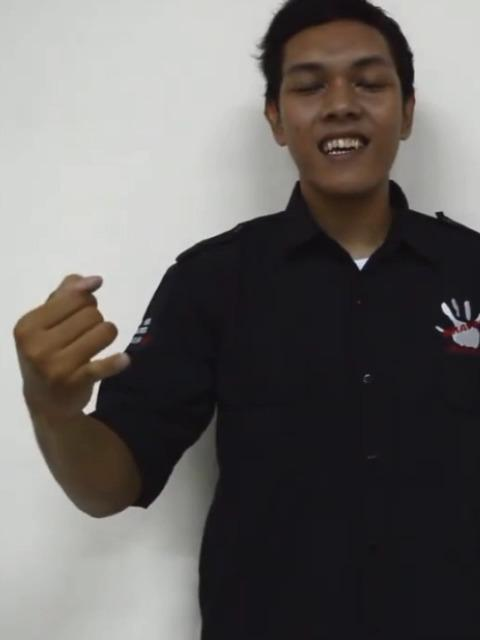J: (10, 266, 132, 414)
